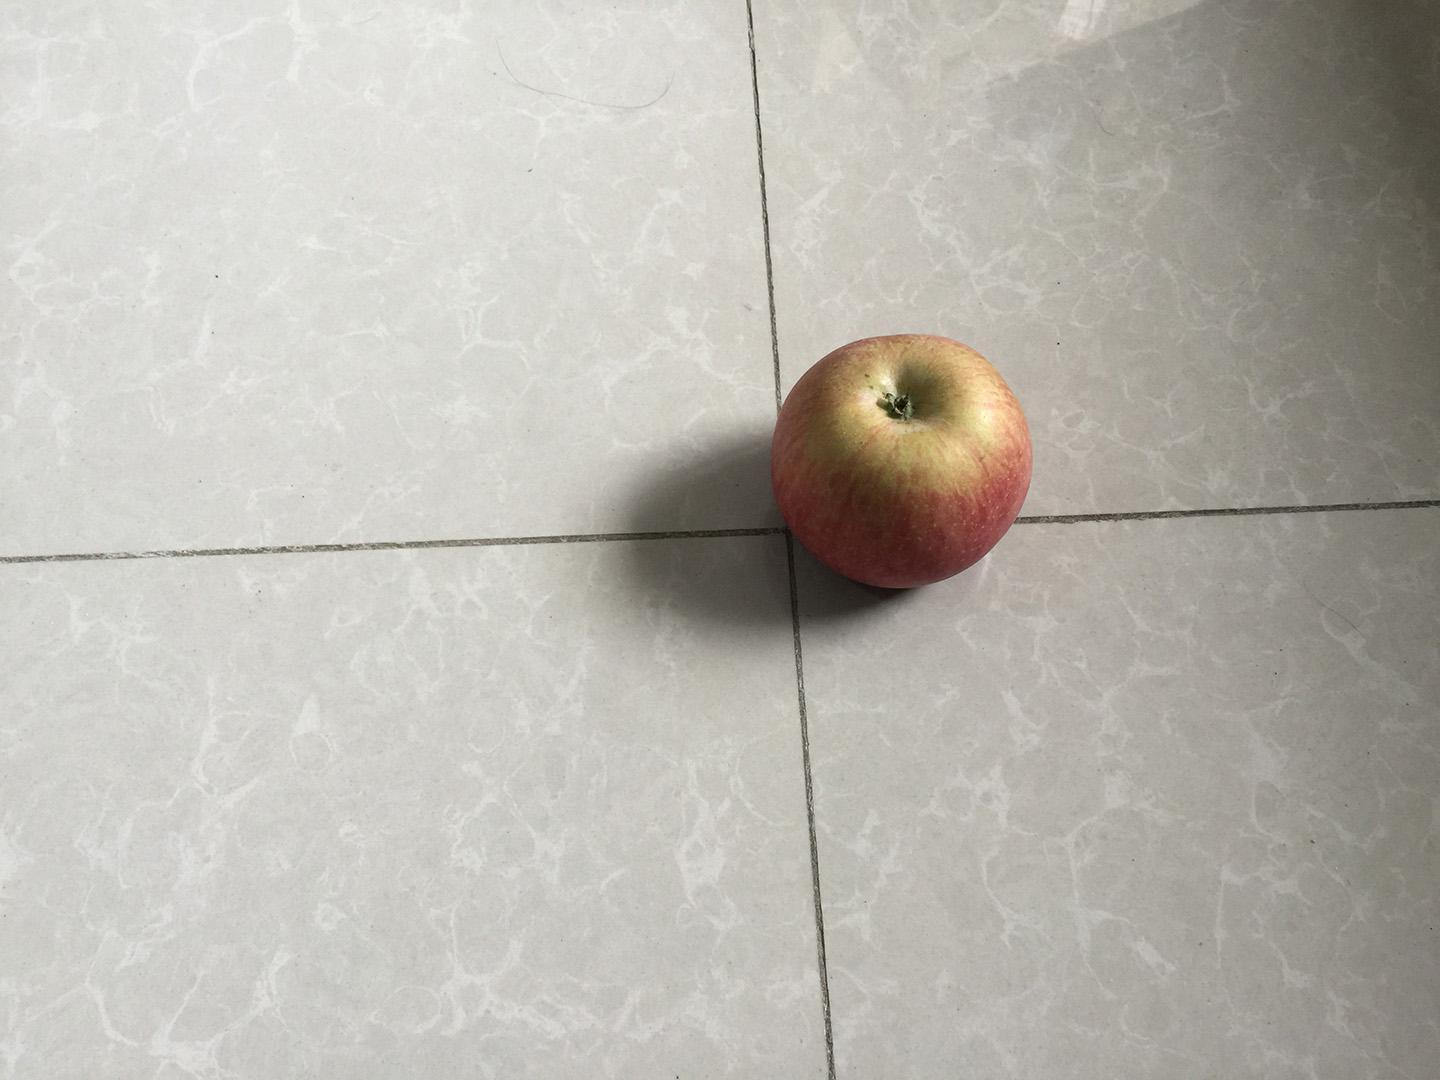apple: (766, 327, 1037, 600)
